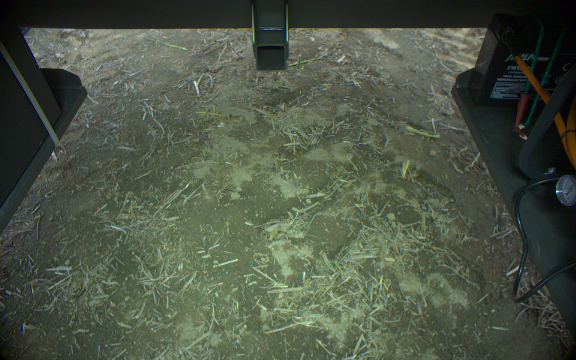aspa: (403, 121, 442, 142), (145, 36, 188, 53), (288, 55, 326, 68)
